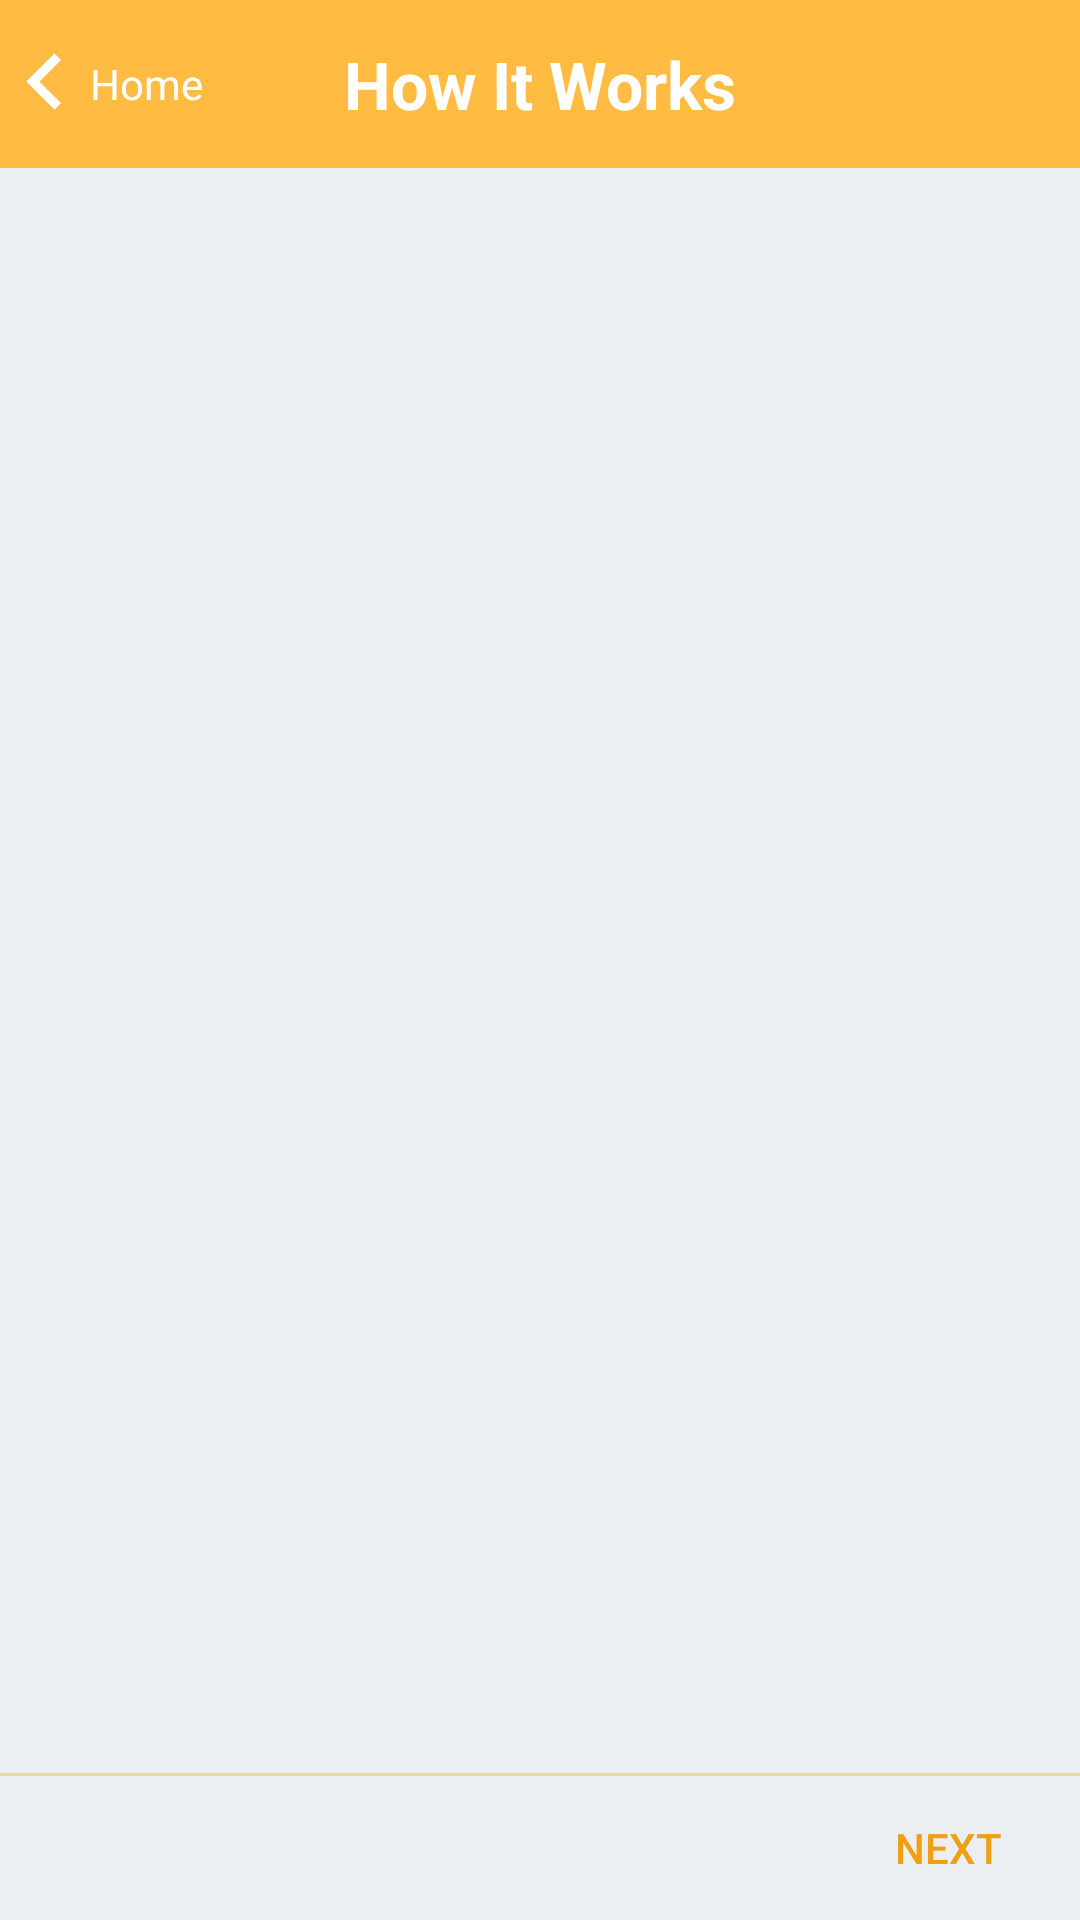

Locate icon controls on the screen. Image size 1080px×1920px, boxes as (x1, y1, x2, y2).
back: (26, 53, 61, 110)
